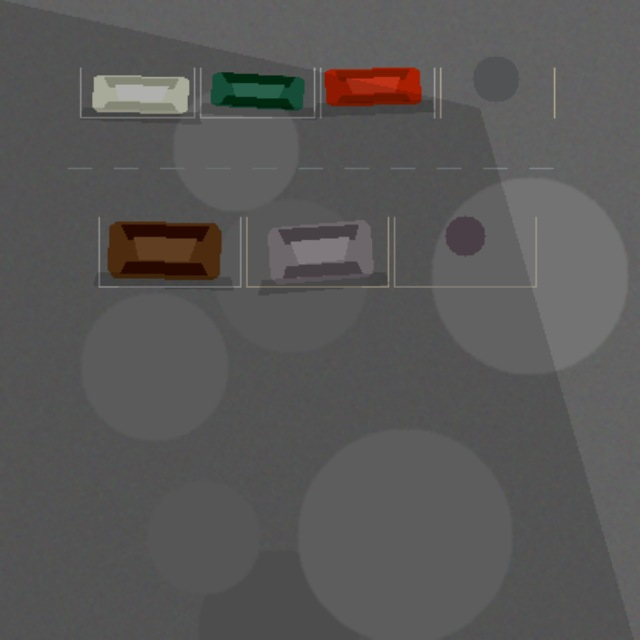space-empty: (394, 217, 535, 286), (440, 68, 554, 117)
space-occupied: (98, 217, 240, 286), (246, 217, 388, 286), (80, 68, 194, 117), (200, 68, 314, 117), (320, 68, 434, 117)
